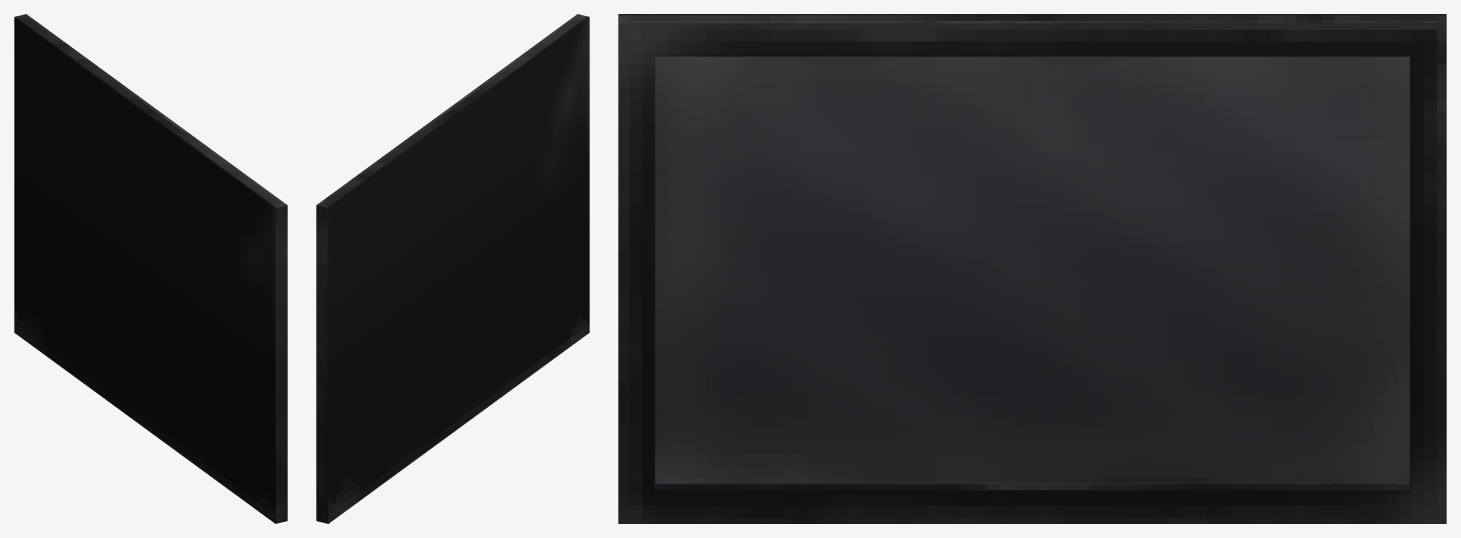
File: mirror.fbx
The picture shows the model from 3 angles, left to right: view 1: azimuth 30°, elevation 25°; view 2: azimuth 150°, elevation 25°; view 3: azimuth 270°, elevation 25°; orthographic projection. The views are drawn at different scales.
Parts seen in each view (by area): view 1: mirror; view 2: mirror; view 3: mirror.
Boxes of the visible parts, <box> form: mirror: <box>14,14,287,523</box>; mirror: <box>316,14,589,523</box>; mirror: <box>618,14,1446,523</box>.
Bounding box in the file's own units: 0.04 × 1 × 1.5.
1 material, 1 textured.
